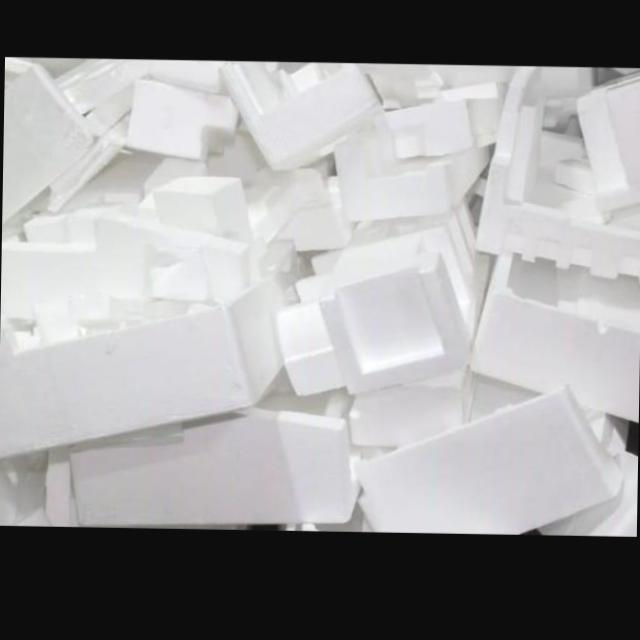xop: (0, 284, 282, 461), (68, 374, 358, 529), (354, 384, 625, 535), (475, 68, 640, 285), (276, 226, 470, 397), (471, 254, 640, 424), (217, 61, 383, 170), (2, 64, 93, 227), (334, 140, 490, 222), (125, 78, 238, 160)
